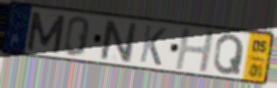0: (62, 15, 92, 58)
H: (173, 28, 217, 74)
K: (138, 23, 169, 68)
M: (24, 9, 68, 55)
N: (99, 18, 139, 65)
Q: (212, 33, 246, 77)
